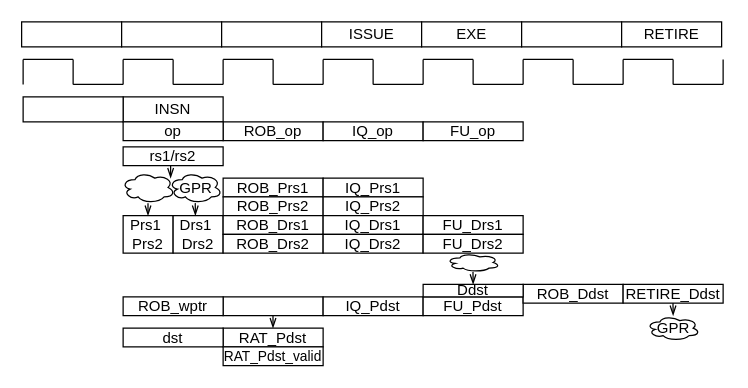
The diagram is 748 pixels wide and 388 high, and some of its shapes have lost their labels. The centre of each missing label's shape, as x and y in pixels:
DECODE: (171,34)
FETCH: (71,34)
FU: (472,262)
PC: (72,109)
RAT: (147,187)
ROB_Pdst: (272,306)
RR: (271,34)
WB: (571,34)
